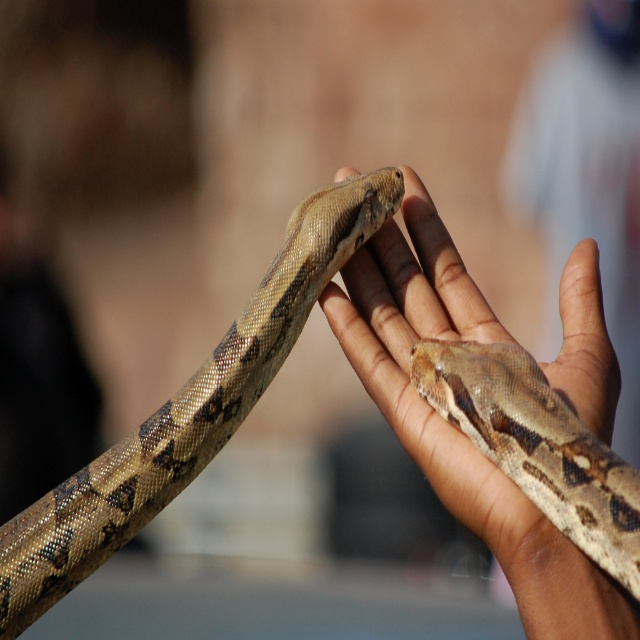Snake: (0, 167, 406, 639), (410, 342, 640, 605)
